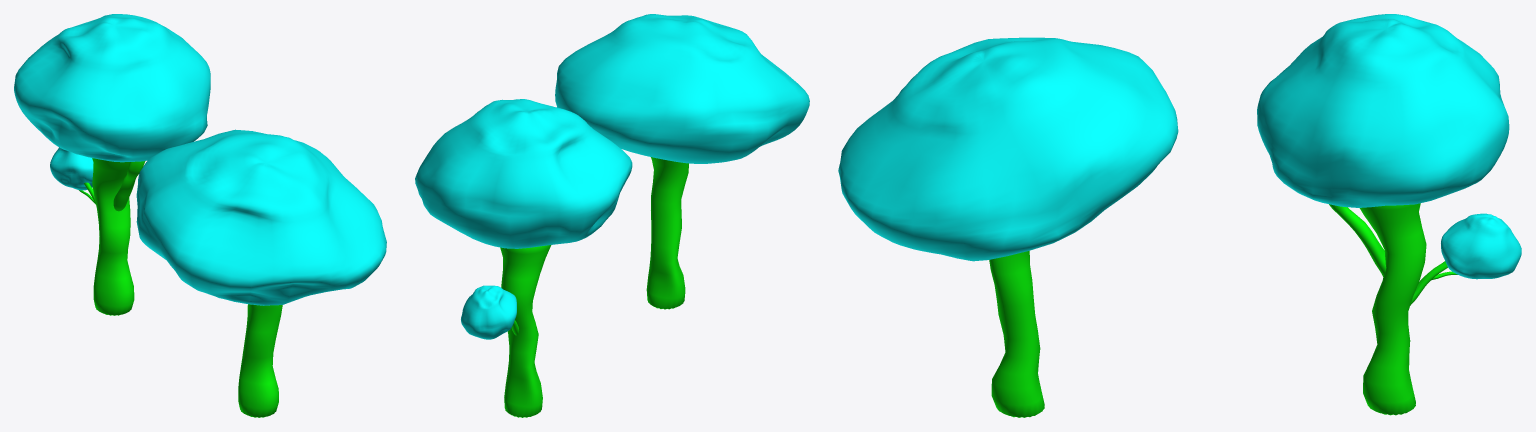
The model's file is arbres.fbx.
3 renders of one model, left to right at view 1: azimuth 30°, elevation 25°; view 2: azimuth 150°, elevation 25°; view 3: azimuth 270°, elevation 25°, orthographic. The views are drawn at different scales.
Visible parts, largest first — view 1: pSphere5, pSphere3, pCylinder10, pCylinder12; view 2: pSphere5, pSphere3, pCylinder10, pCylinder12; view 3: pSphere5, pSphere3, pCylinder10, pCylinder12.
Part boxes in pixels (x1,y1,x2,y2): pSphere5: (136, 129, 386, 305); pSphere3: (14, 14, 210, 190); pCylinder10: (79, 158, 145, 315); pCylinder12: (238, 304, 282, 417); pSphere5: (555, 14, 809, 163); pSphere3: (415, 99, 632, 339); pCylinder10: (500, 245, 551, 417); pCylinder12: (646, 157, 688, 309); pSphere5: (838, 37, 1178, 261); pSphere3: (1257, 14, 1521, 279); pCylinder10: (1329, 203, 1457, 415); pCylinder12: (989, 251, 1044, 417).
Size of the model in its own units: 17.05 by 22.04 by 35.71.
